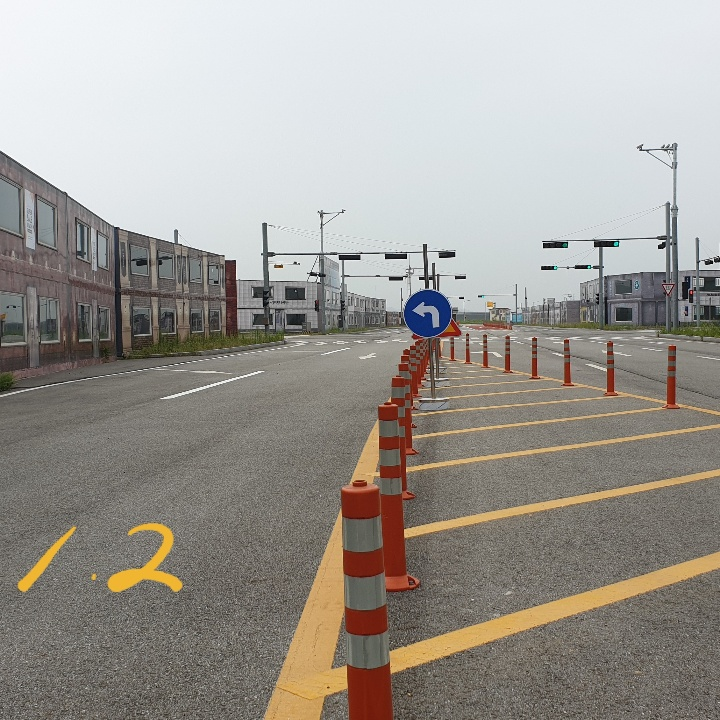left: (410, 298, 443, 333)
